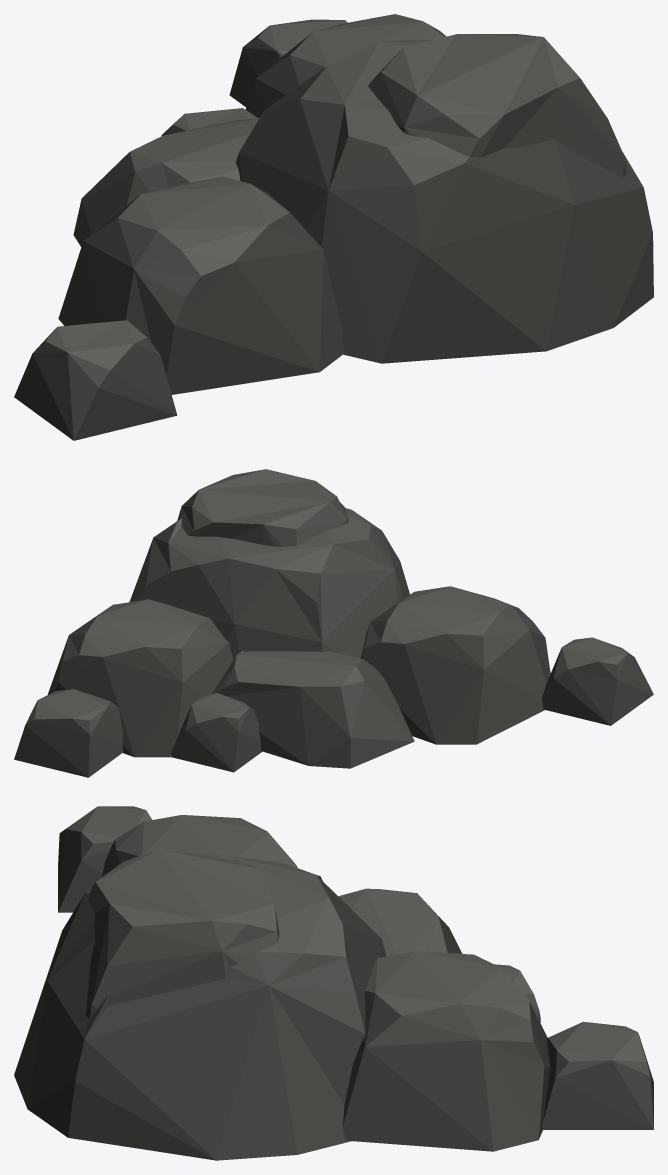
Rendered from SM_Prop_Rock_02.fbx.
3 renders of one model, top to bottom at view 1: azimuth 30°, elevation 25°; view 2: azimuth 150°, elevation 25°; view 3: azimuth 270°, elevation 25°, orthographic. The views are drawn at different scales.
Visible parts, largest first — view 1: SM_Prop_Rock_02; view 2: SM_Prop_Rock_02; view 3: SM_Prop_Rock_02.
Part boxes in pixels (x1,y1,x2,y2): SM_Prop_Rock_02: (14, 14, 653, 440); SM_Prop_Rock_02: (14, 469, 653, 777); SM_Prop_Rock_02: (14, 806, 653, 1160).
Size of the model in its own units: 53.06 by 17 by 49.
